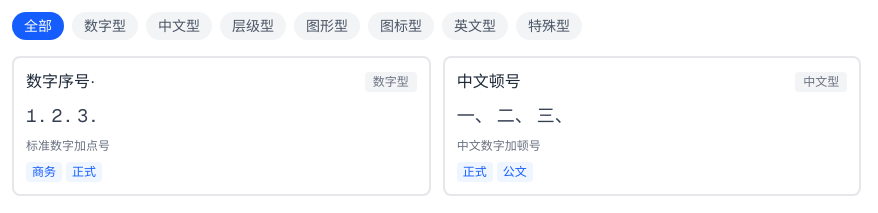
Test: NumberingSelector component › should filter styles by type
This screenshot has width=878, height=213.
Expected: the text "数字序号·" is shown, [26, 70, 95, 94]
Click the button "数字型" at point(105, 26), box [72, 12, 138, 40]
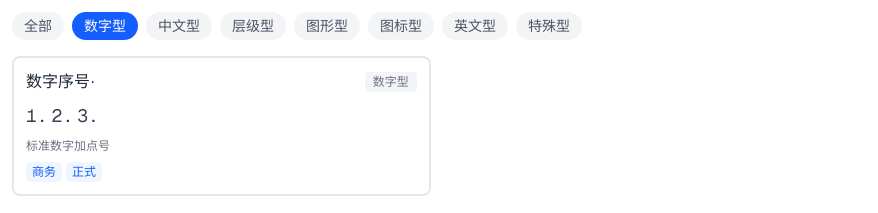
Expected: the text "数字序号·" is shown, [26, 70, 95, 94]
Expected: the text "中文顿号" is gone
